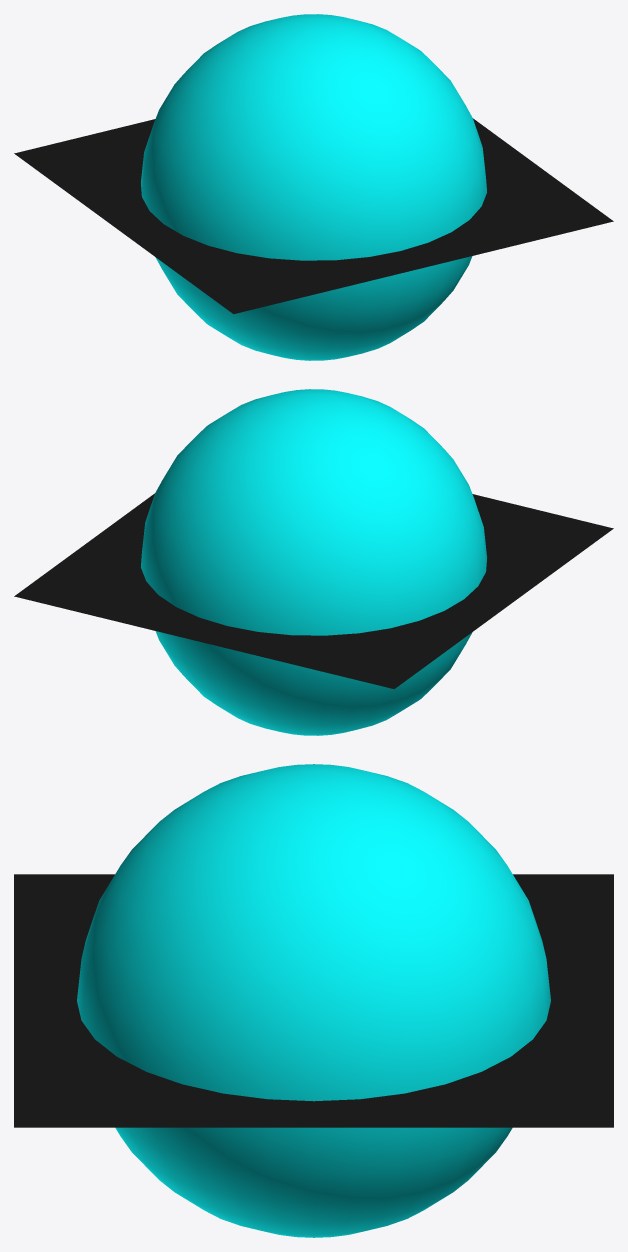
The model's file is Paper.glb.
3 renders of one model, top to bottom at view 1: azimuth 30°, elevation 25°; view 2: azimuth 150°, elevation 25°; view 3: azimuth 270°, elevation 25°, orthographic. The views are drawn at different scales.
Visible parts, largest first — view 1: Sphere.001, Plane; view 2: Sphere.001, Plane; view 3: Sphere.001, Plane.
Boxes of the visible parts, <box> form: Sphere.001: <box>140,14,486,360</box>; Plane: <box>14,118,613,314</box>; Sphere.001: <box>141,389,487,735</box>; Plane: <box>14,493,613,689</box>; Sphere.001: <box>77,764,550,1237</box>; Plane: <box>14,874,613,1127</box>.
Bounding box in the file's own units: 50.21 × 39.68 × 50.21.
